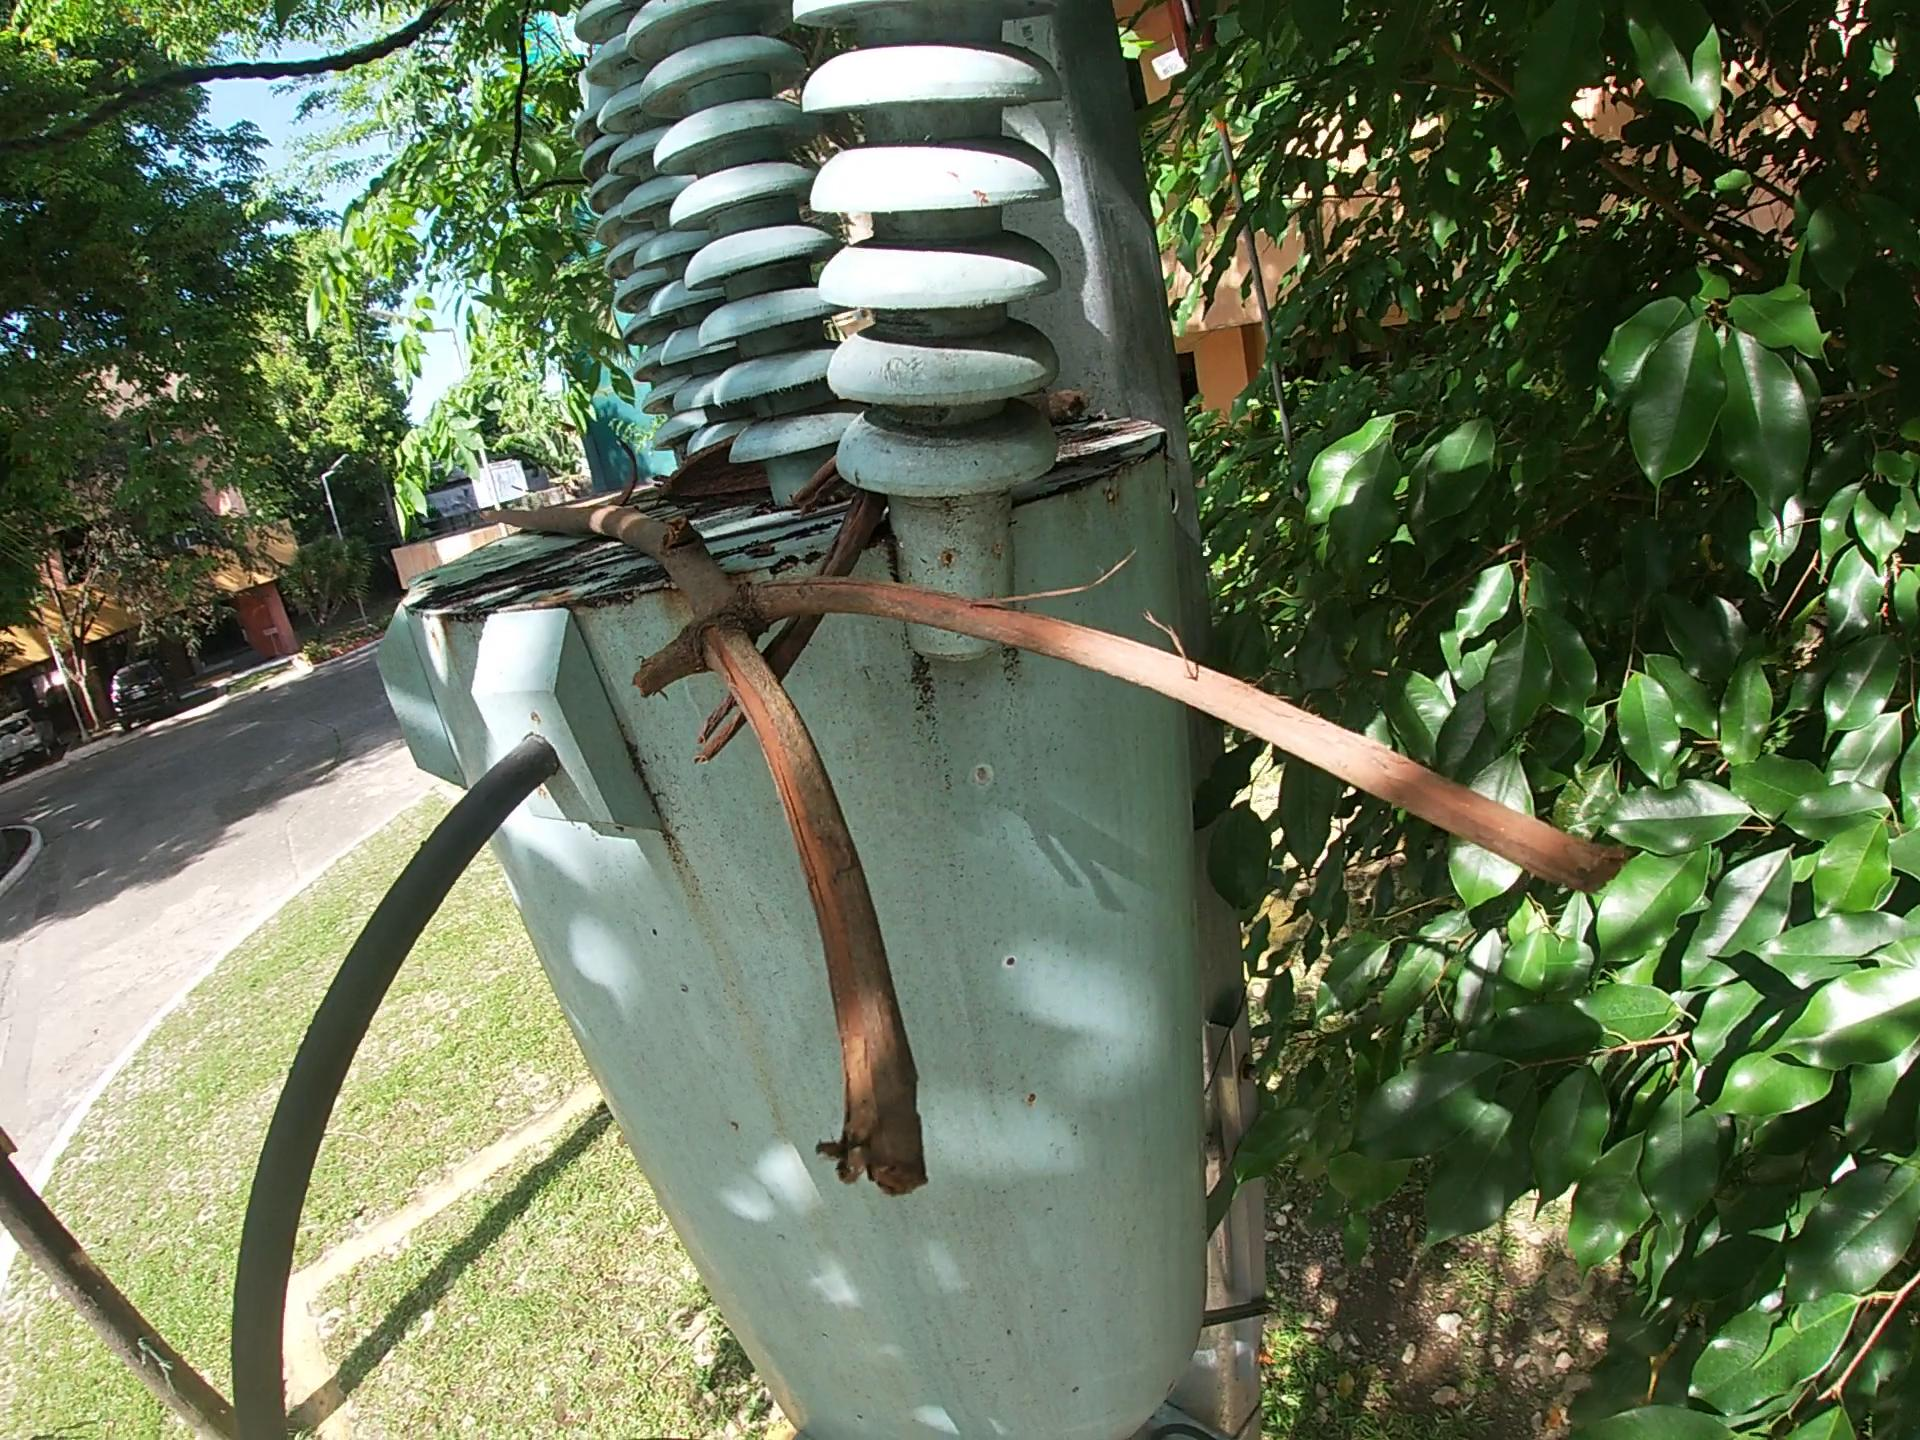mahogany fruit: (655, 436, 770, 507), (608, 439, 641, 510)
tree branch: (481, 495, 1637, 1212), (691, 448, 900, 777)
